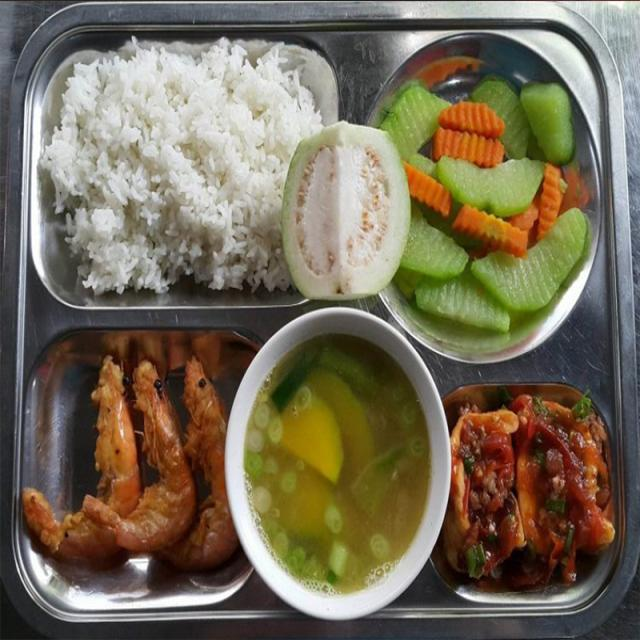ca rot: (452, 164, 566, 257), (431, 101, 504, 167), (404, 162, 450, 217)
canh bi do: (244, 335, 429, 594)
com: (40, 39, 322, 293)
dau hu: (442, 395, 614, 588)
oi: (282, 123, 410, 299)
tom: (22, 356, 238, 569)
